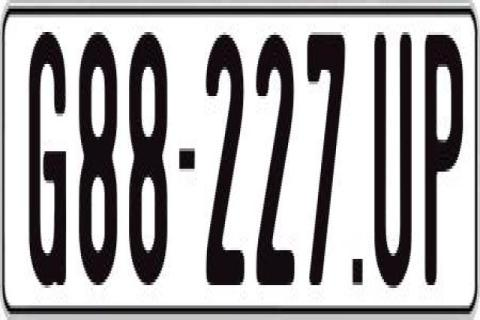0: (255, 29, 300, 297), (79, 24, 123, 294), (204, 32, 248, 300), (129, 24, 172, 282), (306, 29, 344, 297)
G: (28, 29, 71, 297)
P: (426, 26, 466, 288)
U: (374, 23, 414, 285)
